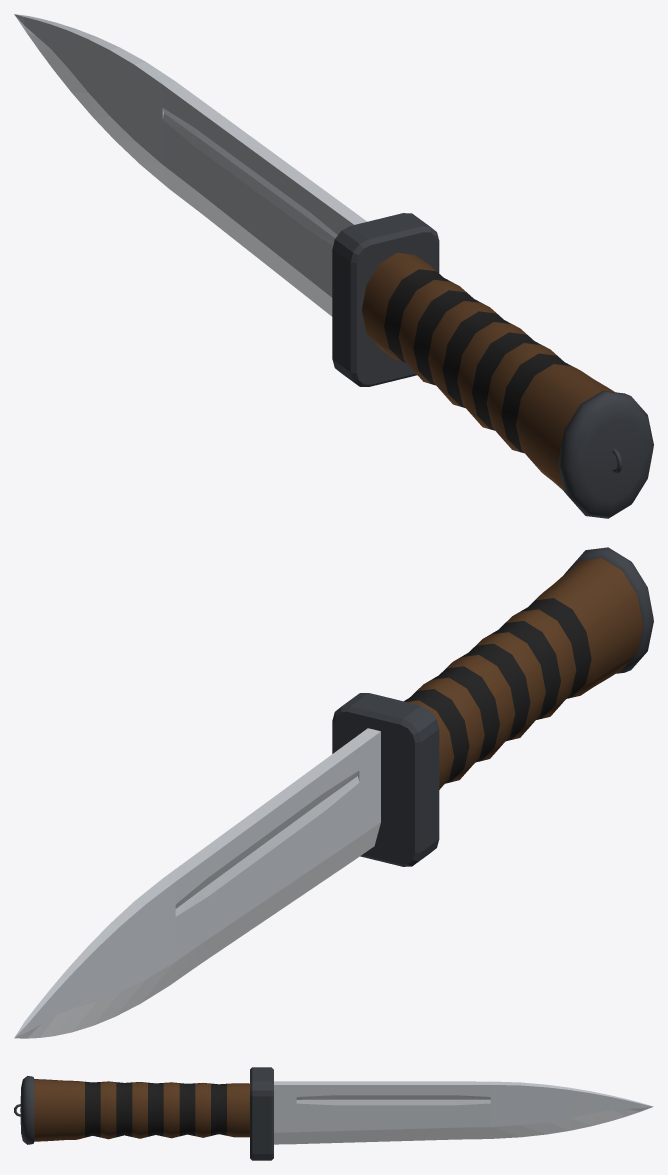
Rendered from knife.glb.
3 views of the same model, one above another, from view 1: azimuth 30°, elevation 25°; view 2: azimuth 150°, elevation 25°; view 3: azimuth 270°, elevation 25° (orthographic). The views are drawn at different scales.
Visible parts, largest first — view 1: blade, handle, guard, pommel, handle_groove, edge, fuller; view 2: blade, handle, guard, handle_groove, edge, fuller, pommel; view 3: blade, handle, edge, handle_groove, guard, fuller, pommel.
Boxes of the visible parts, x1,y1,x2,y2 form: blade: [14, 14, 367, 297]; handle: [362, 252, 614, 490]; guard: [332, 213, 439, 386]; pommel: [558, 390, 653, 518]; handle_groove: [384, 269, 571, 453]; edge: [15, 15, 332, 316]; fuller: [162, 108, 337, 245]; blade: [14, 728, 380, 1037]; handle: [407, 558, 642, 789]; guard: [332, 693, 439, 866]; handle_groove: [404, 598, 591, 783]; edge: [14, 822, 380, 1038]; fuller: [175, 770, 359, 916]; pommel: [564, 547, 653, 673]; blade: [274, 1081, 653, 1132]; handle: [34, 1079, 249, 1141]; edge: [274, 1107, 652, 1144]; handle_groove: [85, 1081, 226, 1137]; guard: [250, 1067, 273, 1160]; fuller: [296, 1095, 490, 1105]; pommel: [20, 1076, 34, 1144].
Bounding box in the file's own units: 0.0278 × 0.043 × 0.3199.
